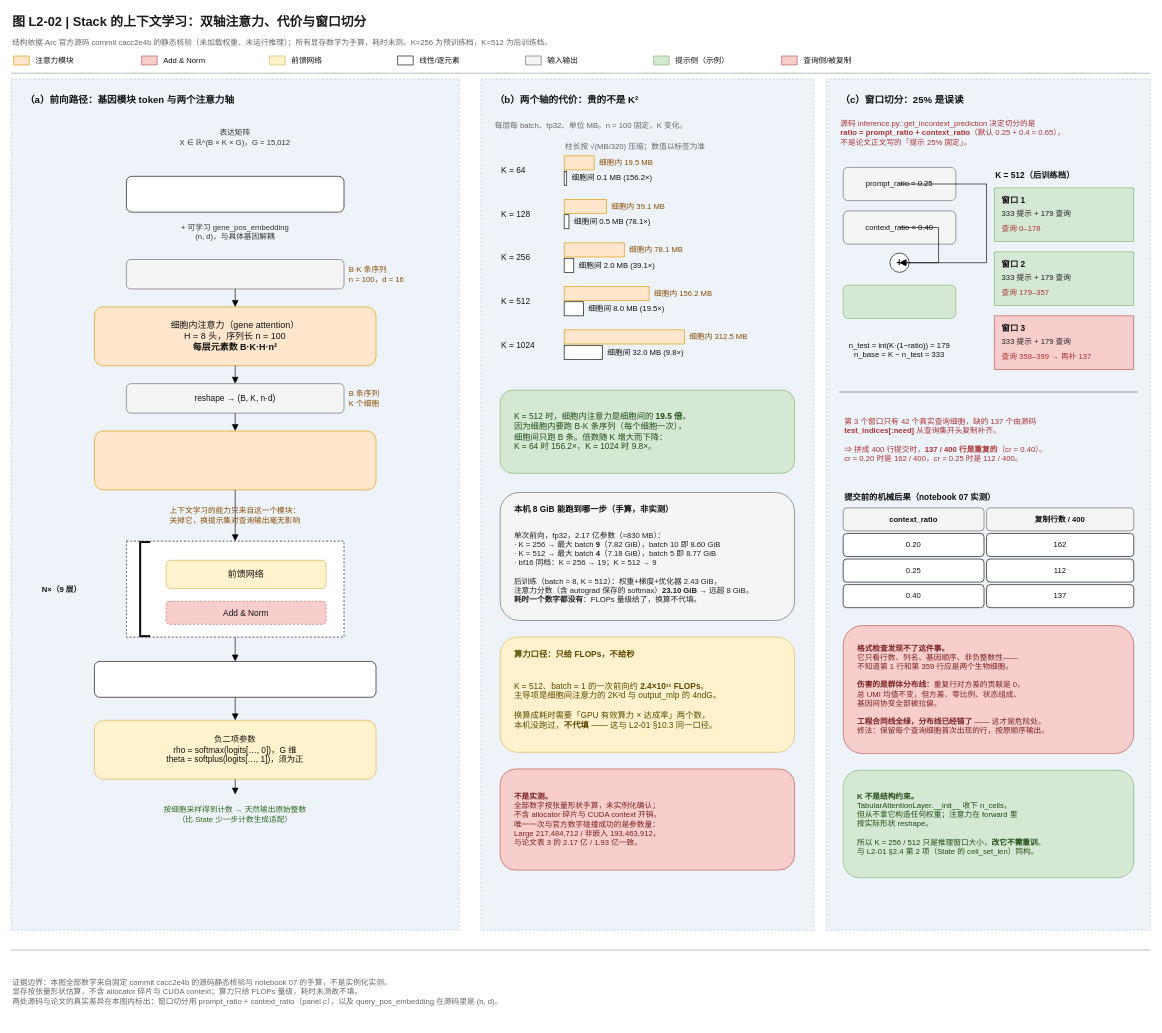
The diagram is 1162 pixels wide and 1033 high, and some of its shapes have lost their labels. Here are the shapes that lost their labels. From the top down, the centre of each, then its label:
(x=235, y=194): 基因 token 化 Linear (G → n·d)
(x=235, y=274): reshape → (B·K, n, d)
(x=899, y=301): ratio = 0.65
(x=235, y=460): 细胞间注意力（cell attention） H = 8 头，序列长 K 每层元素数 B·H·K²
(x=235, y=679): output_mlp n·d → 2·n·d → 2G
